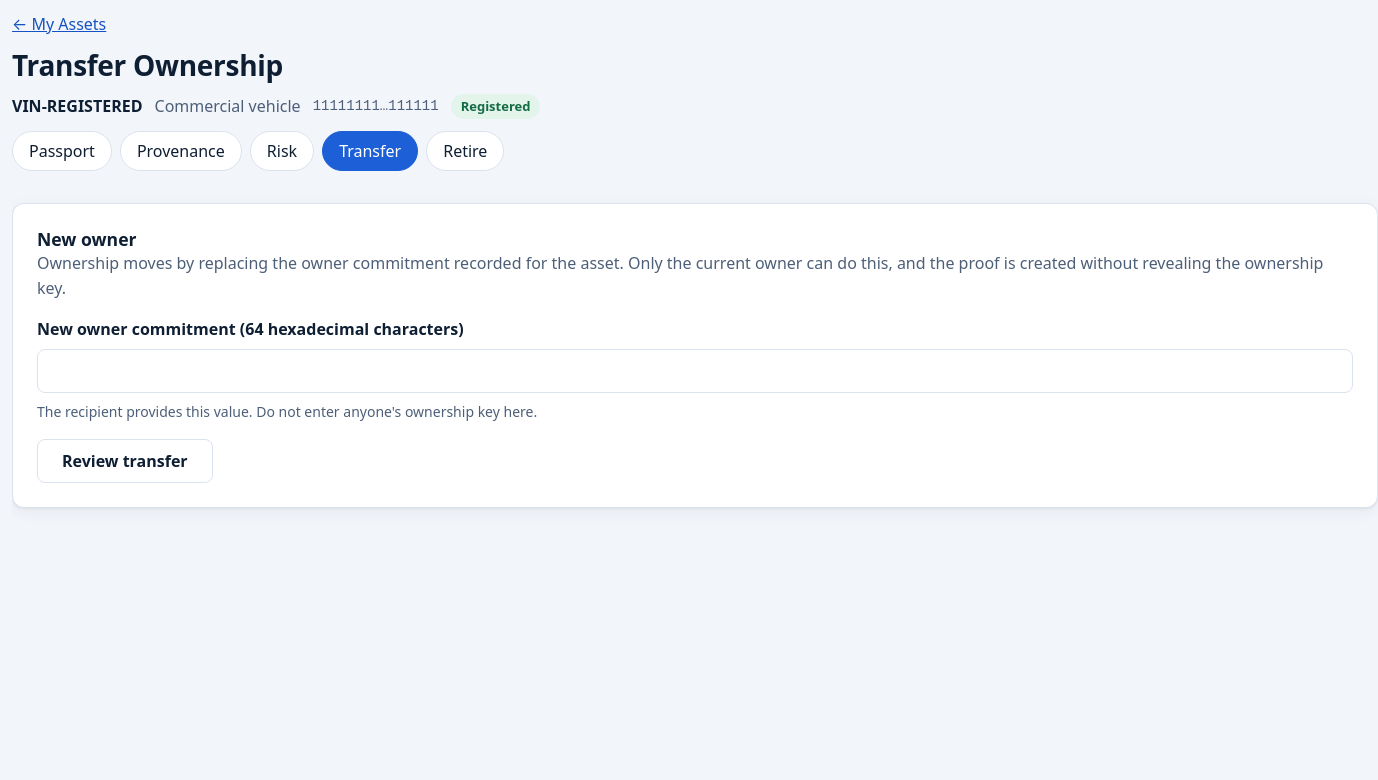
Scenario: transfer and retire › validates the new owner commitment before showing a review
Type "abc" into the field labelled "New owner commitment (64 hexadecimal characters)" at (695, 371), box [37,349,1353,393]
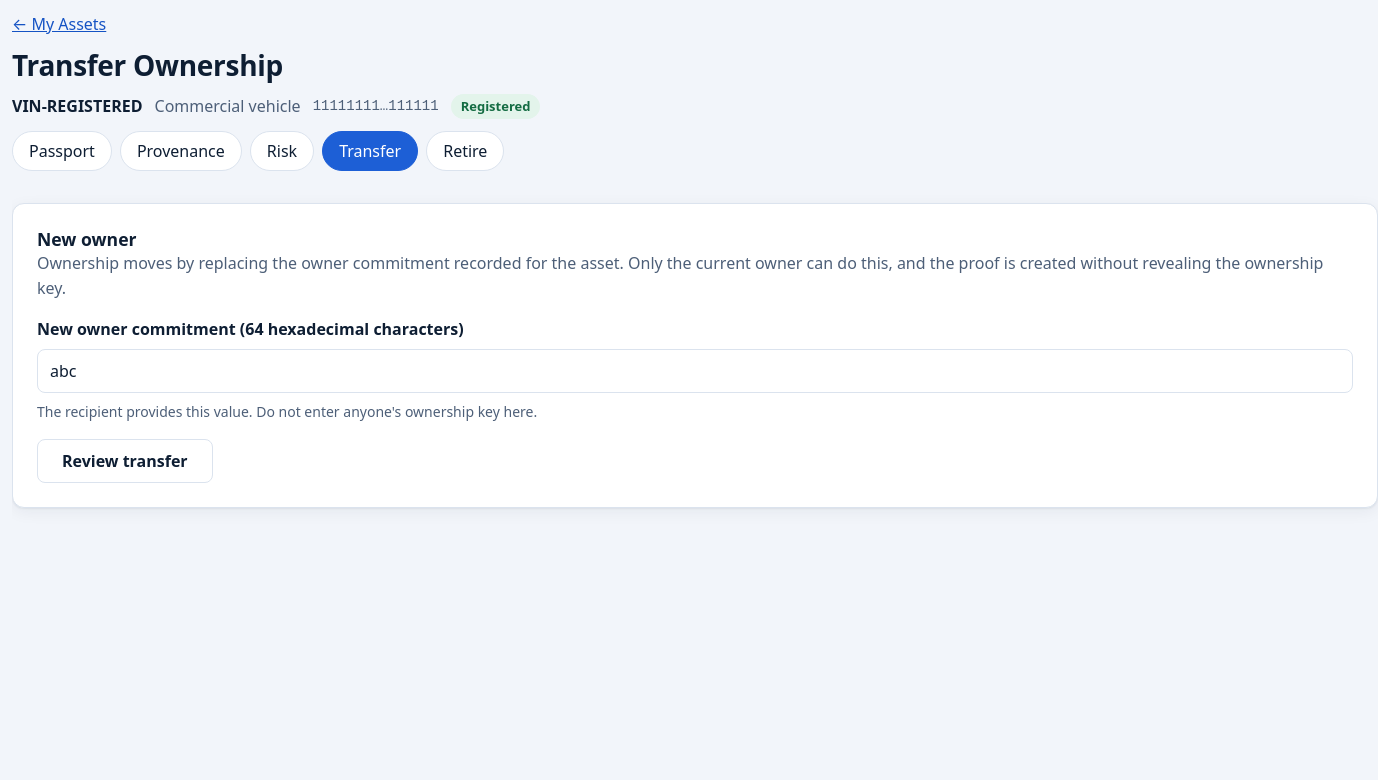
Click the button "Review transfer" at (125, 461), box [37,439,213,483]
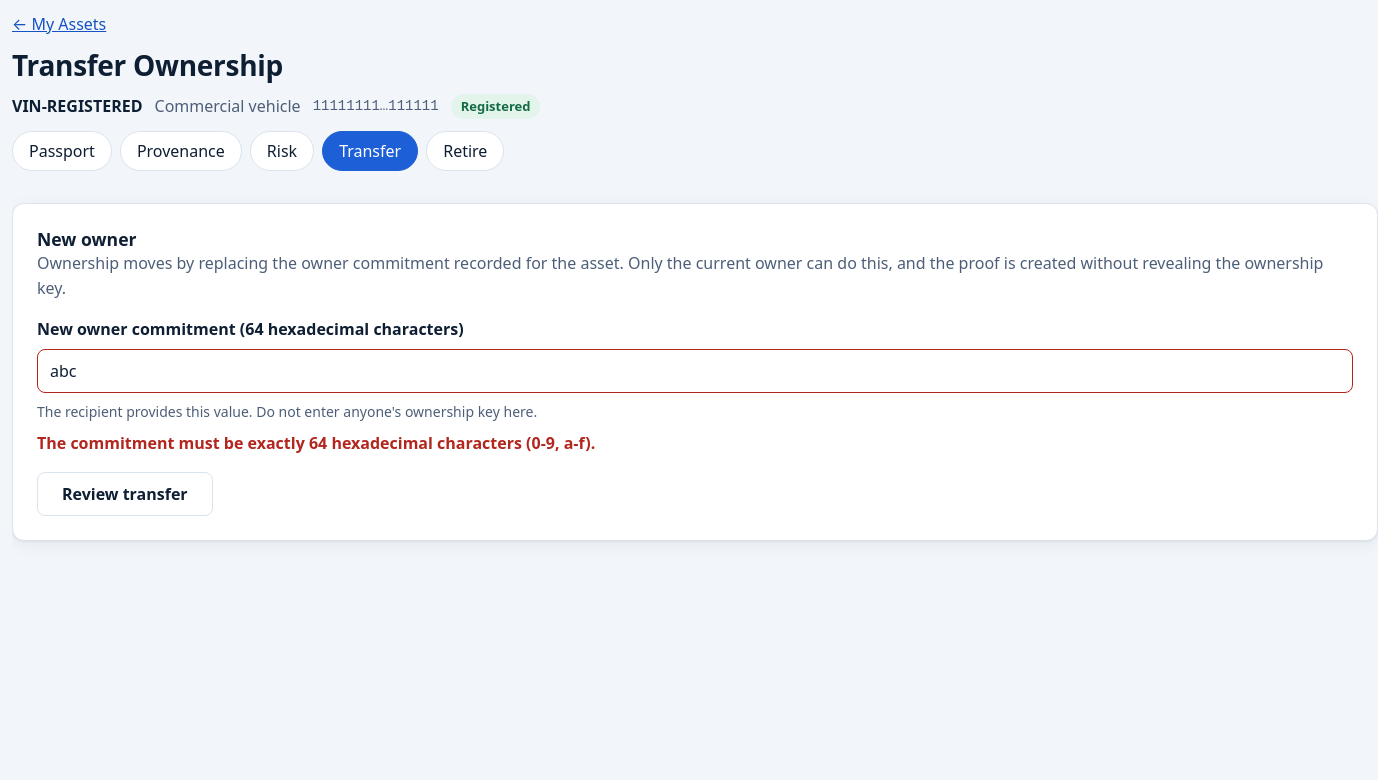
Expected: the text "exactly 64 hexadecimal" is shown, [37,432,595,454]
